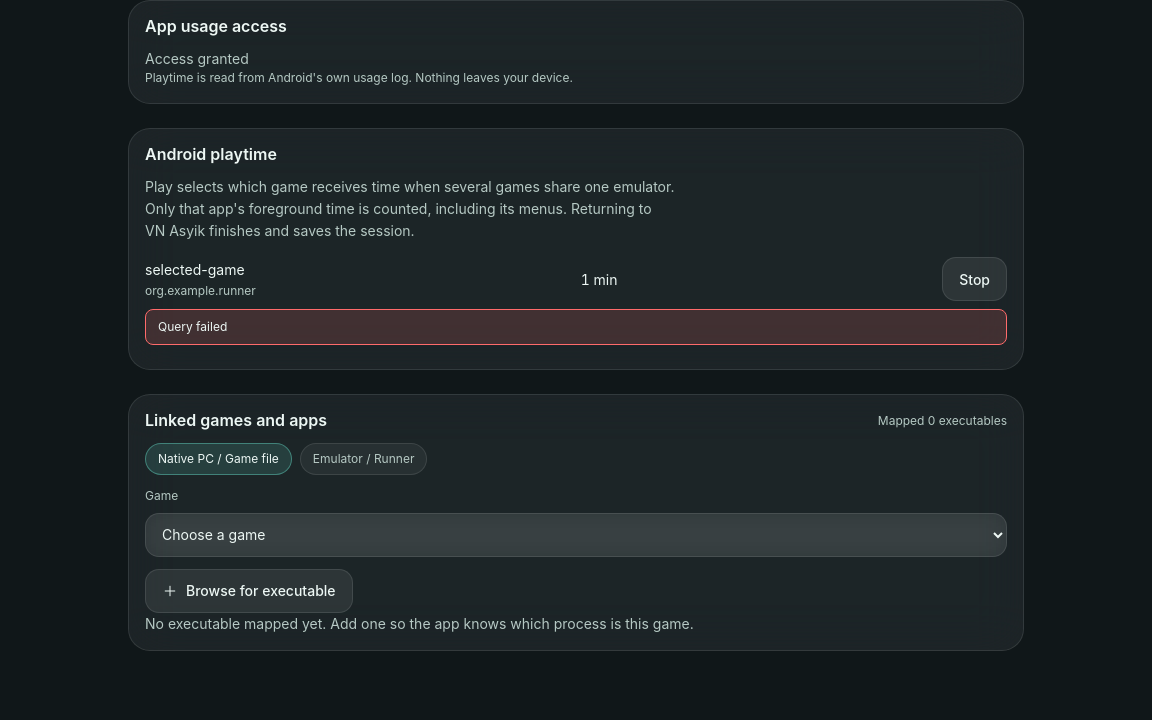
Android session recovery status › clears a recovery error when stopping the session succeeds
Expected: the message reads "Query failed", x1=158 y1=319 x2=227 y2=334
Click the button "Stop" at (975, 279), box x1=942 y1=257 x2=1007 y2=301
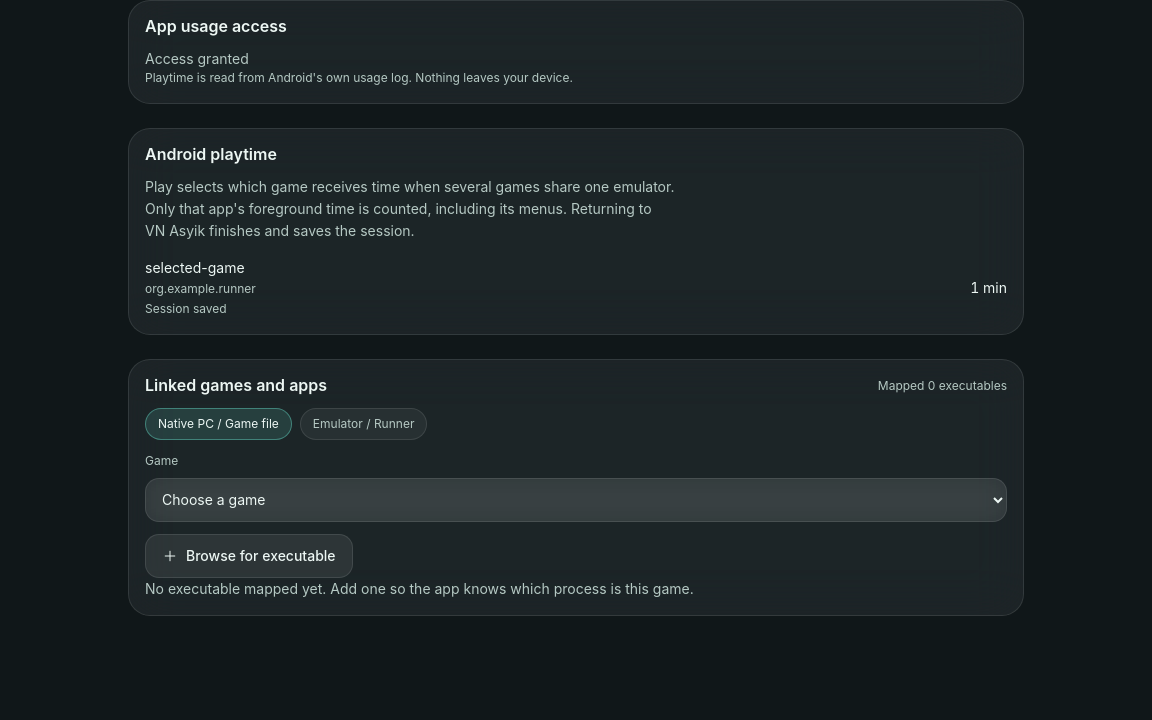
Now the text "Session saved" is shown, box x1=145 y1=301 x2=227 y2=316
Now the message "Query failed" is gone
